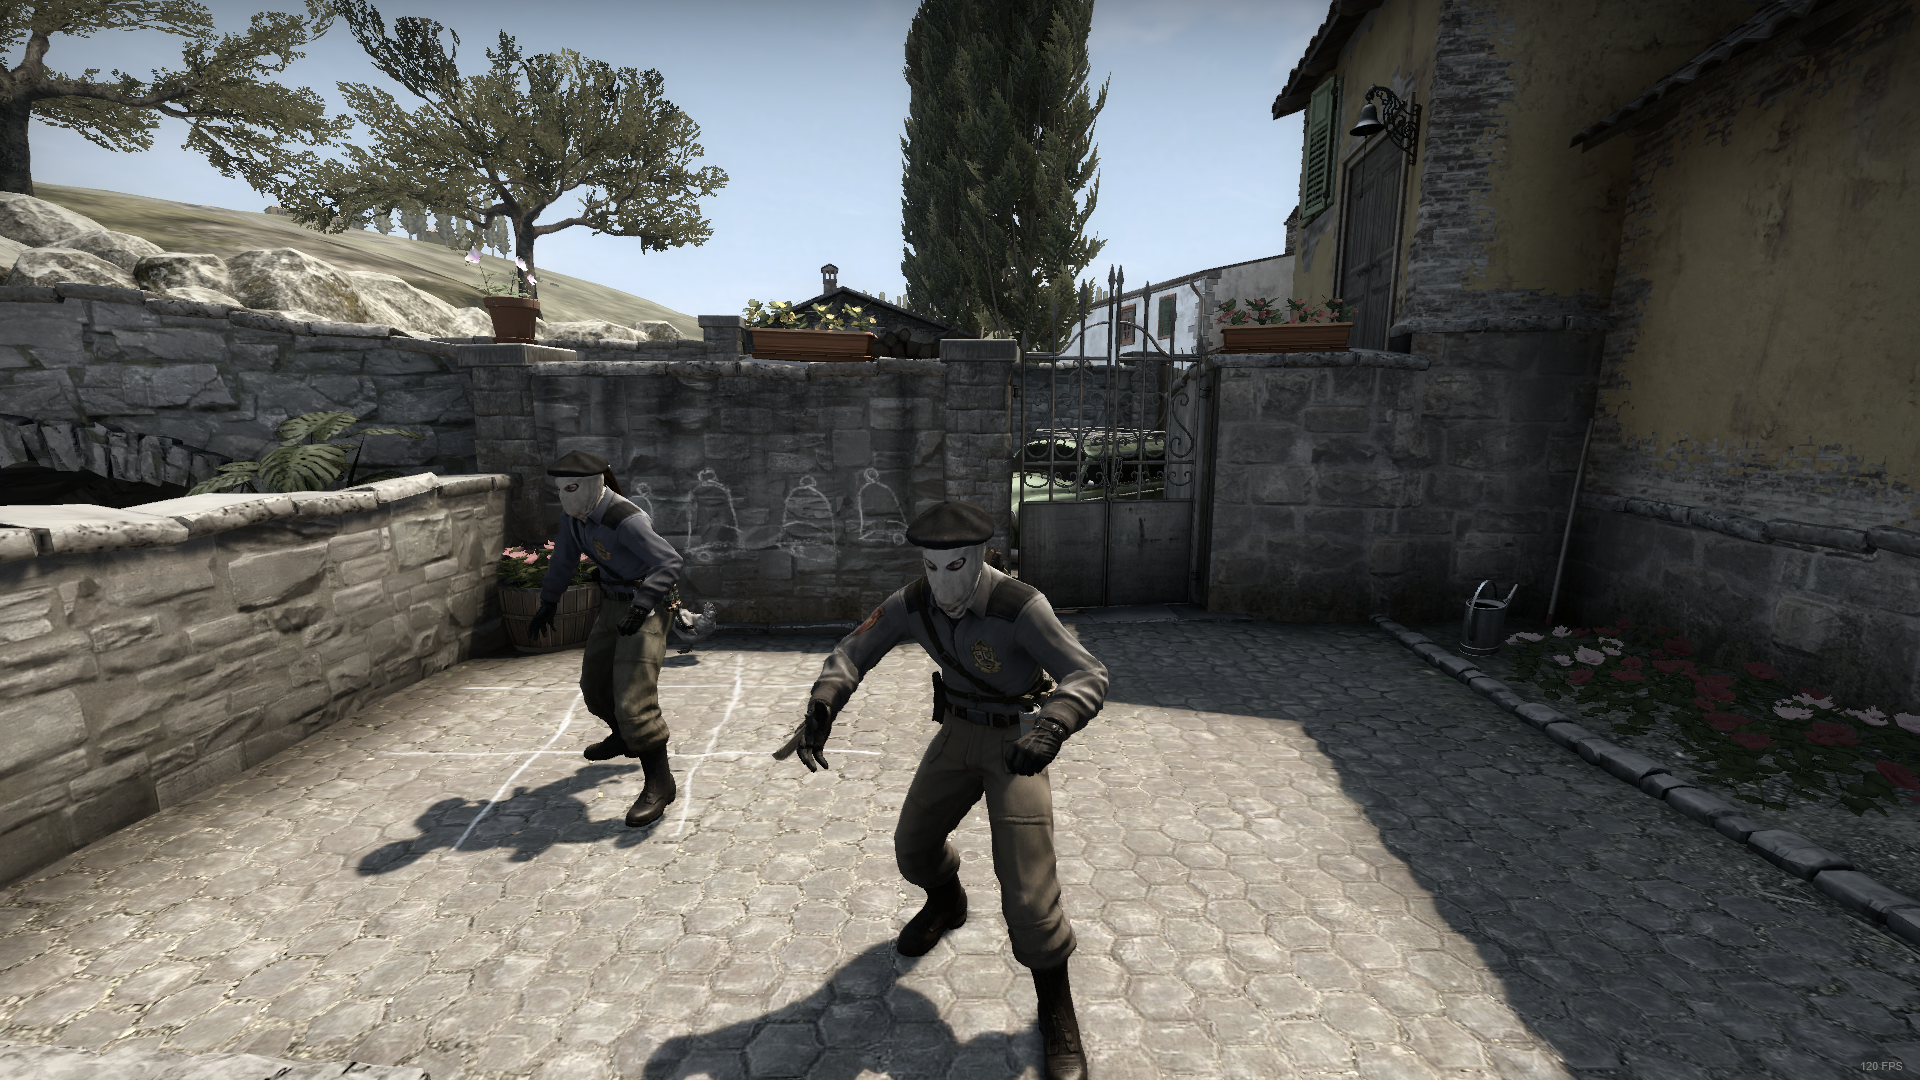t: (799, 498, 1121, 1080), (512, 447, 721, 848)
